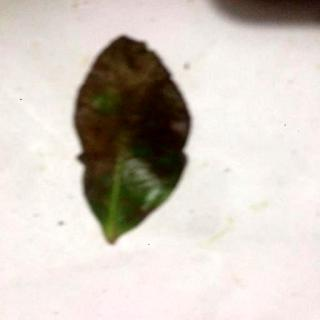Red Leaf Spot: (75, 37, 193, 245)
